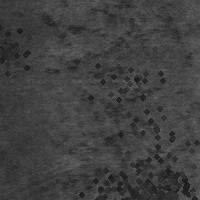rolled-in_scale: (35, 2, 181, 94), (61, 83, 172, 196), (93, 79, 200, 191), (74, 30, 176, 132), (104, 149, 192, 200), (74, 149, 152, 200), (134, 149, 200, 200), (0, 22, 32, 76)
